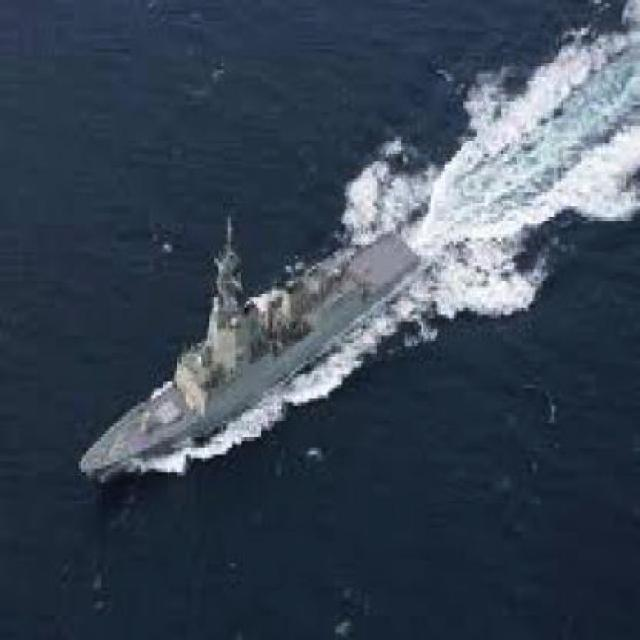no-oil: (8, 33, 640, 626)
